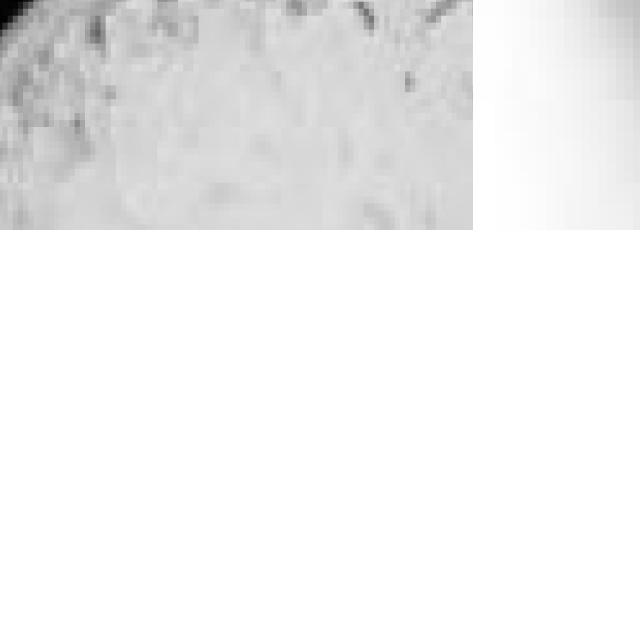spoons: (0, 0, 473, 230)
